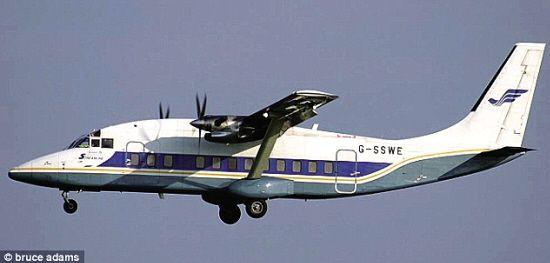airplane: (7, 38, 549, 222)
